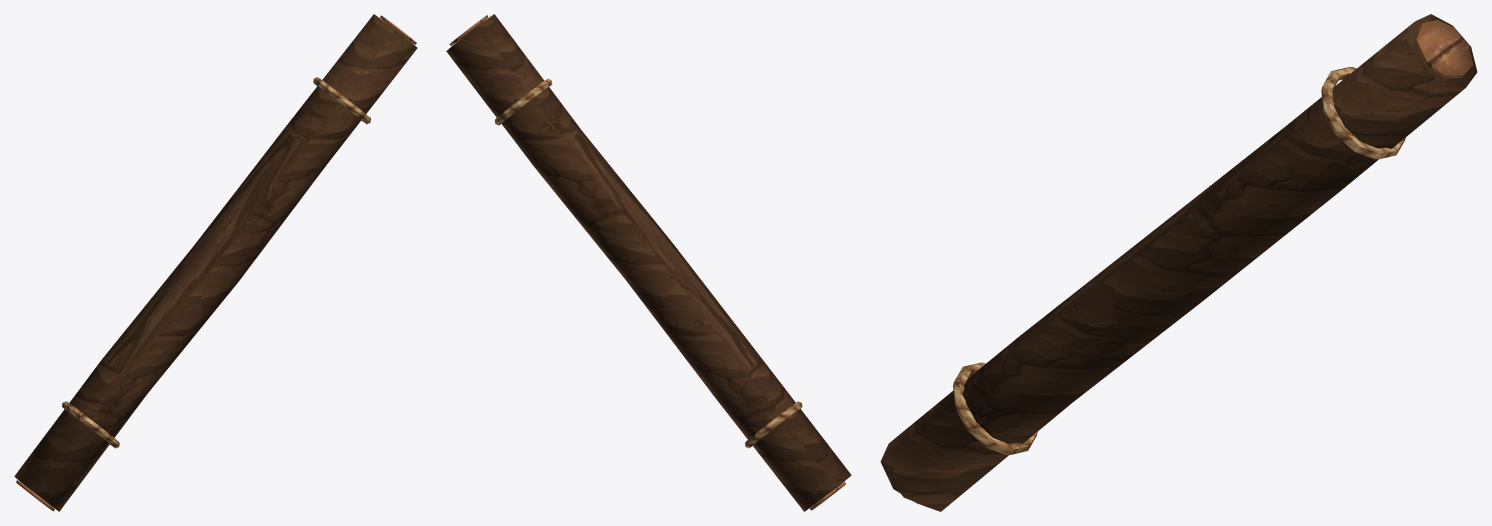
Rendered from beam_2m_45.glb.
3 views of the same model, side by side, from view 1: azimuth 30°, elevation 25°; view 2: azimuth 150°, elevation 25°; view 3: azimuth 330°, elevation 25° (orthographic). The views are drawn at different scales.
Parts seen in each view (by area): view 1: model; view 2: model; view 3: model.
Boxes of the visible parts, <box> form: model: <box>14,14,417,511</box>; model: <box>446,14,851,511</box>; model: <box>880,14,1477,511</box>.
Bounding box in the file's own units: 1.55 × 1.56 × 0.248.
Materials: 3 (3 with a texture image).
